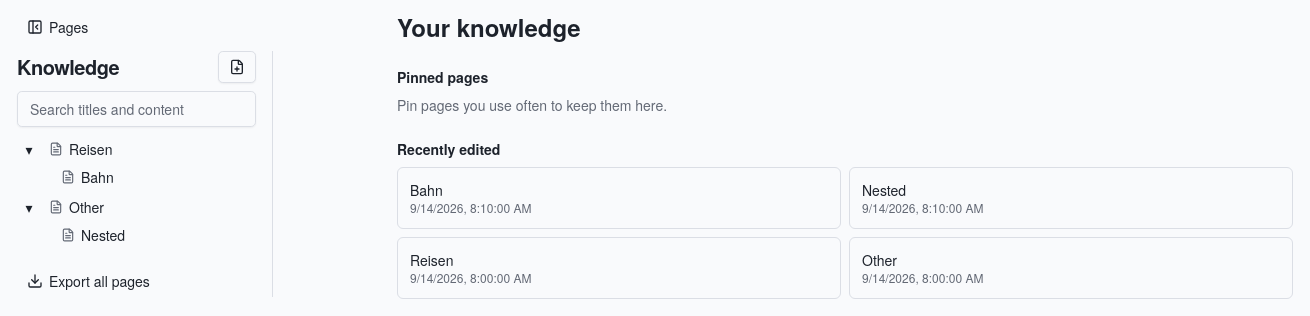
Test: Knowledge › keeps branches collapsed across page navigation and offers an empty-page editor
The width and height of the screenshot is (1310, 316).
Click the button named "Collapse Reisen" at [29, 149], box [17,135,41,163]
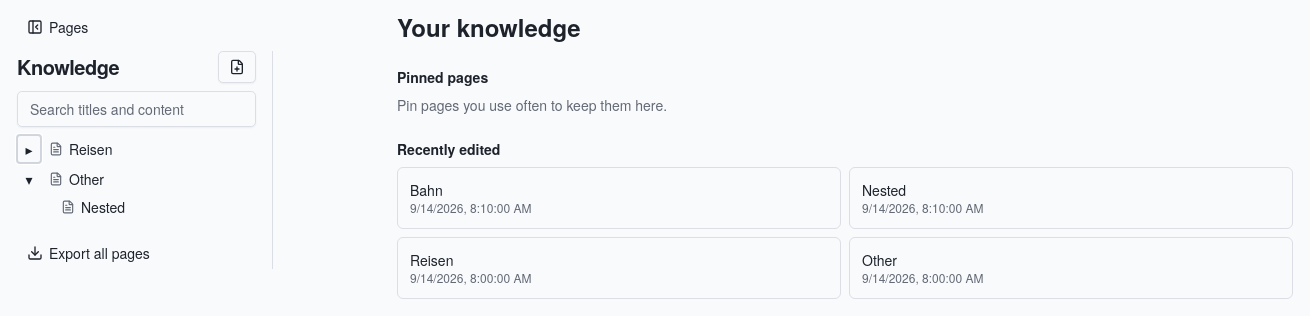
Click the button named "Collapse Other" at [29, 179], box [17,165,41,193]
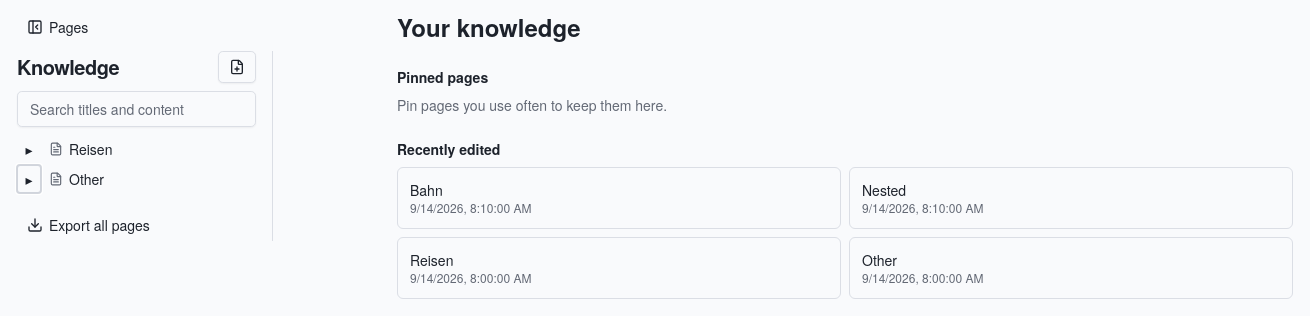
Click the 1st link "Other" at [76, 179], box [49,169,104,189]
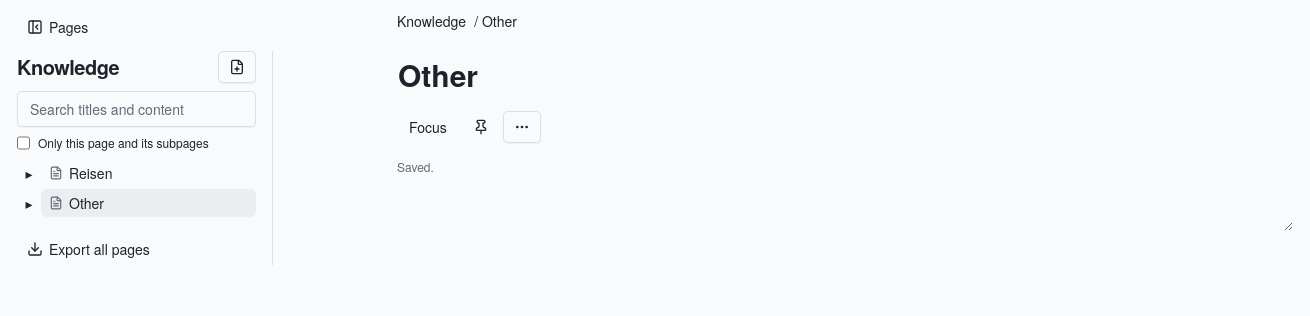
Check: the button named "Expand Reisen" is shown, box [17,159,41,187]
Check: the button named "Expand Other" is shown, box [17,189,41,217]
Check: the text box showing "Other" is shown, box [397,47,1293,103]
